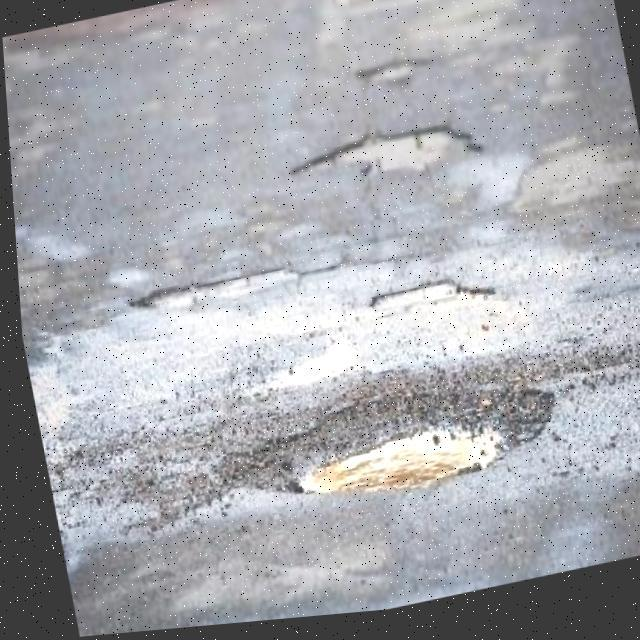pothole: (258, 363, 564, 524), (280, 114, 487, 204), (122, 258, 300, 326), (358, 268, 494, 338), (352, 58, 431, 98)
